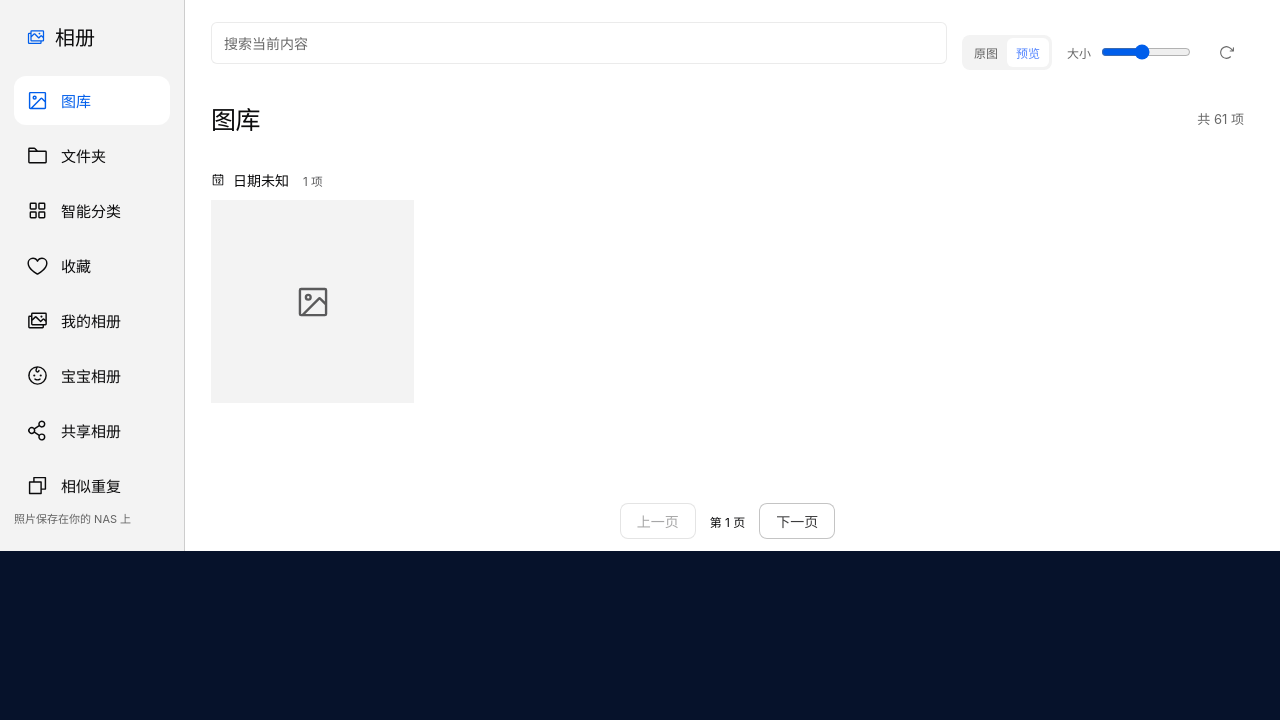
paginates photos using server total and real page requests
Expected: the button named "查看 Page 1" is shown, [211,200,414,403]
Click the button "下一页": [797, 521] box [759,503,835,539]
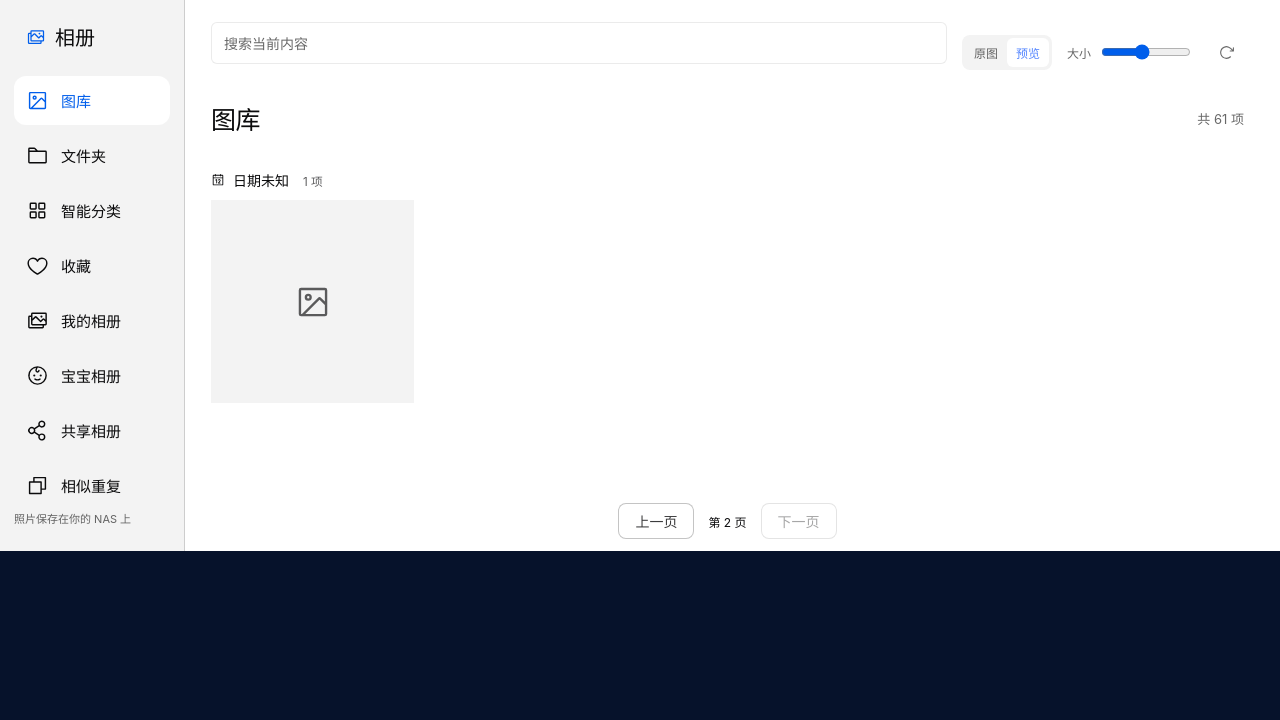
Expected: the button named "查看 Page 2" is shown, [211,200,414,403]
Expected: the button "下一页" is disabled, [760,503,836,539]
